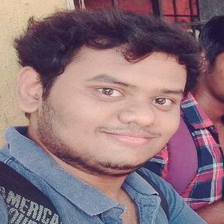no_mask: (50, 49, 184, 168)
